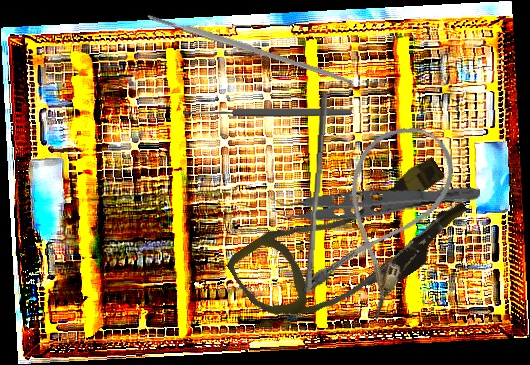Cannula: (223, 132, 480, 357), (296, 110, 468, 326)
Pusher: (303, 90, 329, 295)
Scalpel Handle: (145, 10, 355, 87)
Surgical Spoon: (183, 107, 351, 117)
Tissue Forceps: (269, 168, 482, 229)
